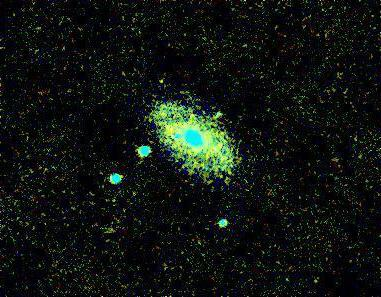star: (178, 103, 208, 133)
